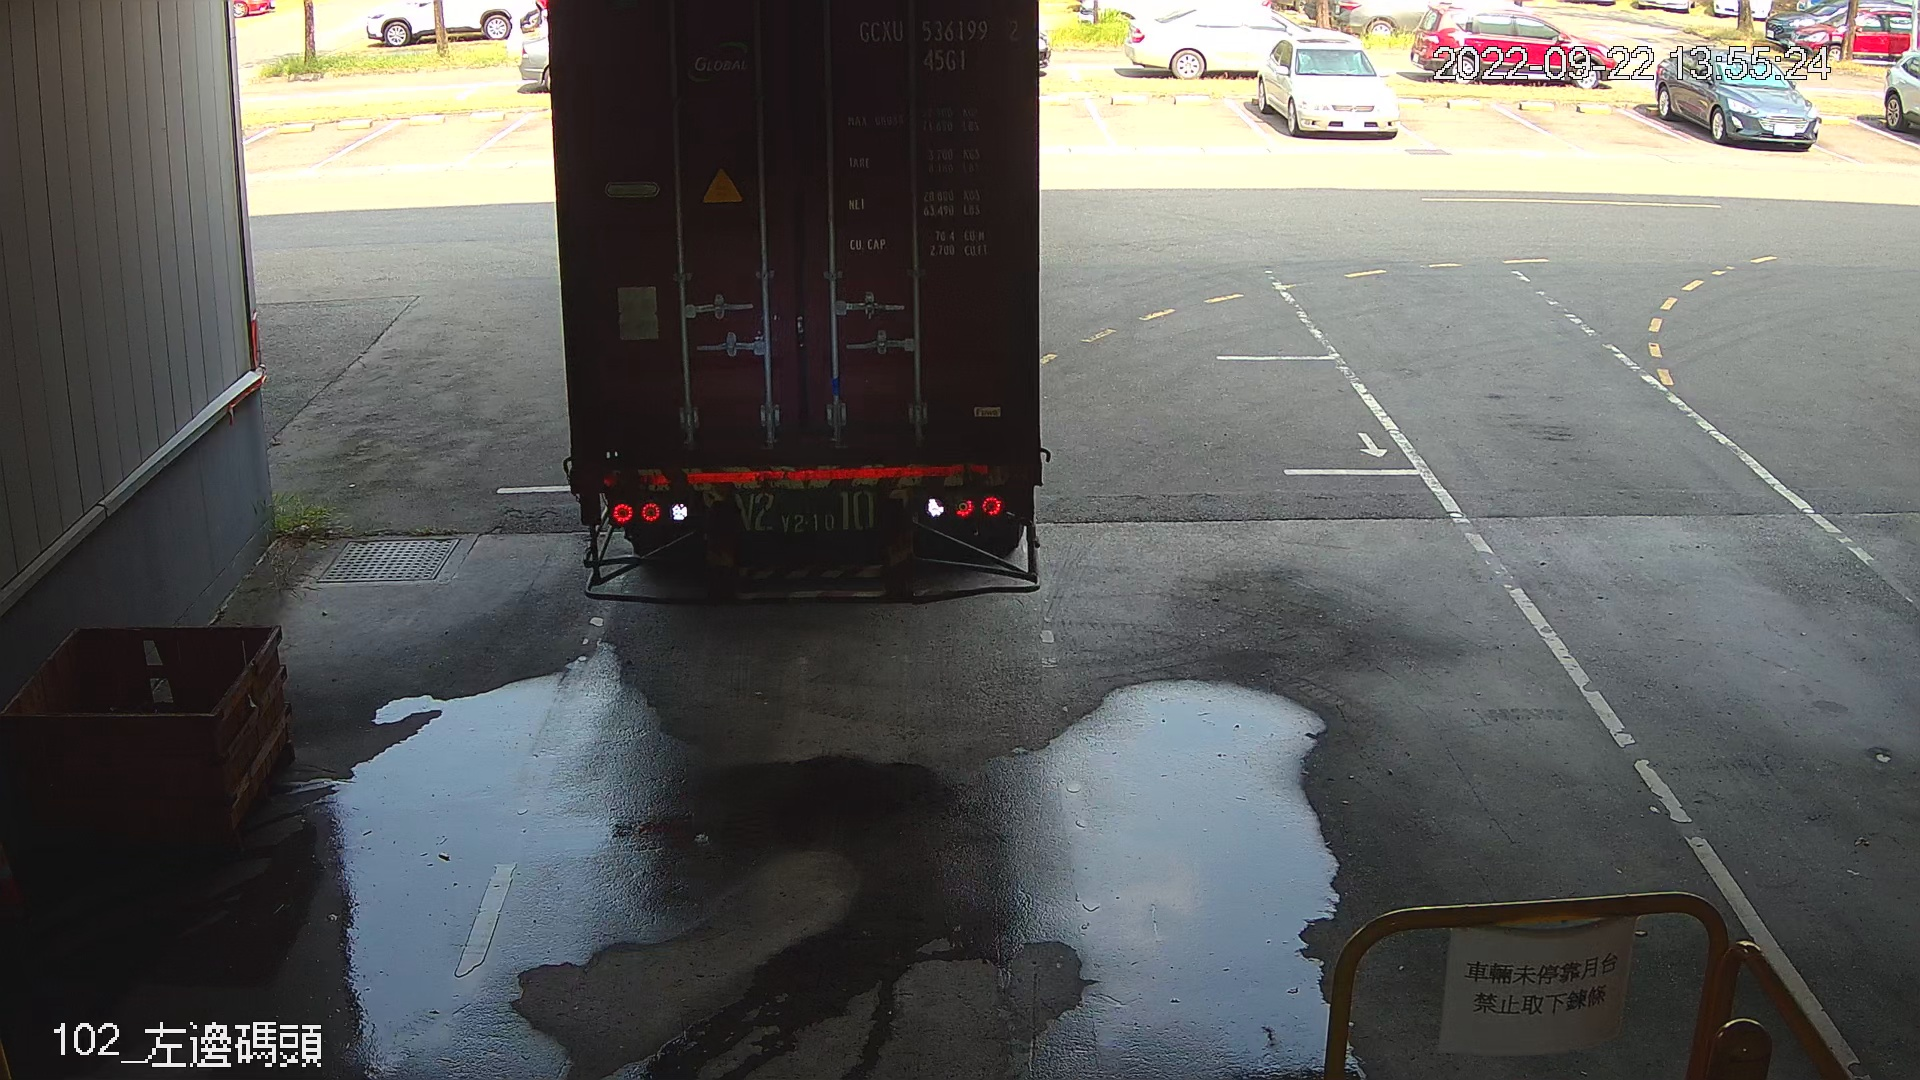container: (851, 7, 1031, 80)
